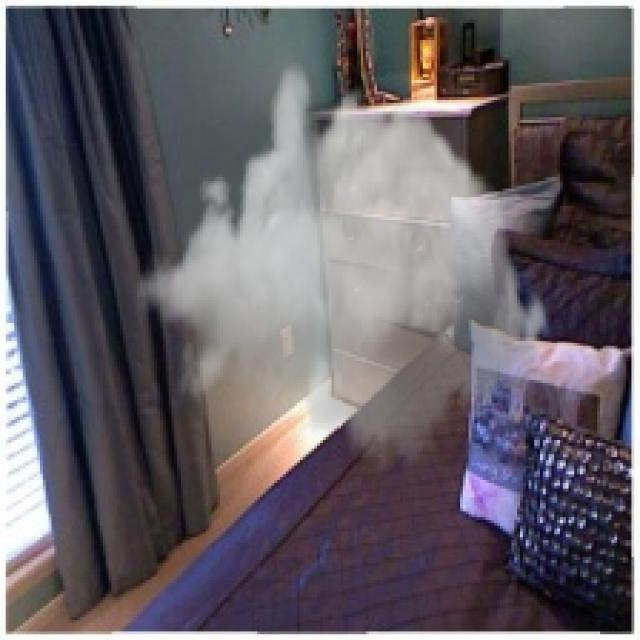smoke: (134, 57, 552, 477)
